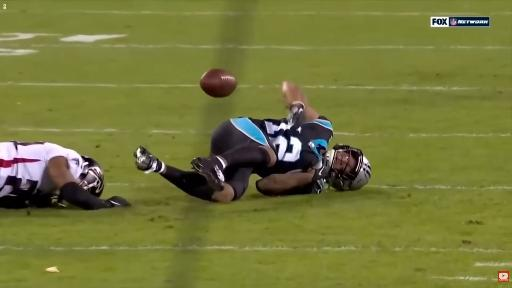Helmet: (325, 144, 371, 190), (79, 156, 104, 197)
Jersey: (252, 117, 332, 177), (0, 141, 84, 197)
Player: (135, 83, 369, 202), (0, 141, 129, 209)
